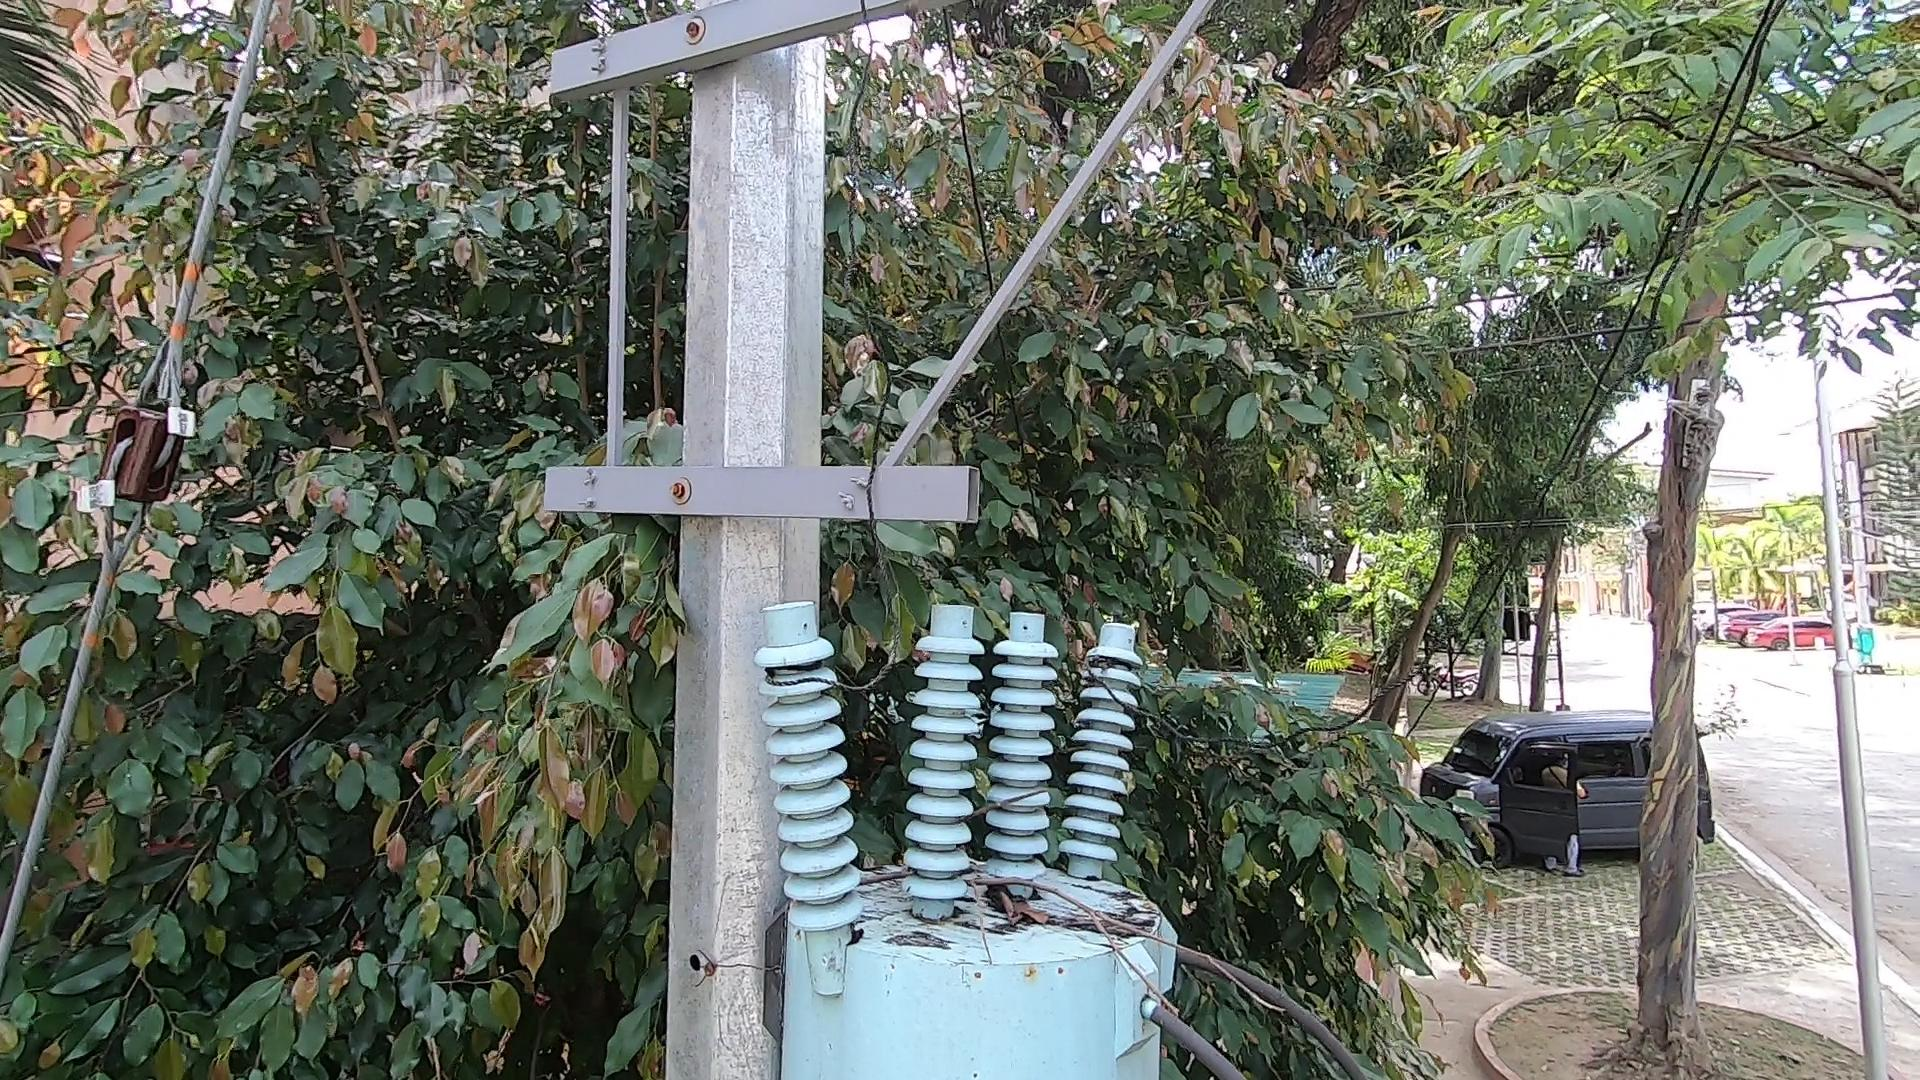leaf: (957, 880, 1054, 938)
tree branch: (851, 848, 1292, 1036)
